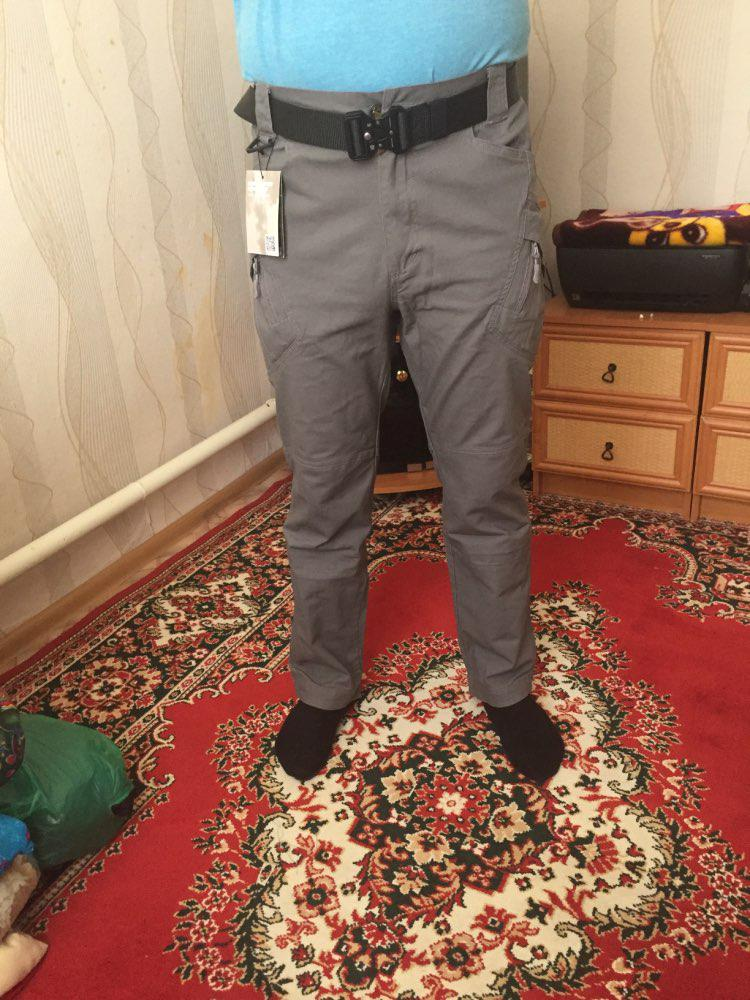pants: (235, 61, 547, 694)
